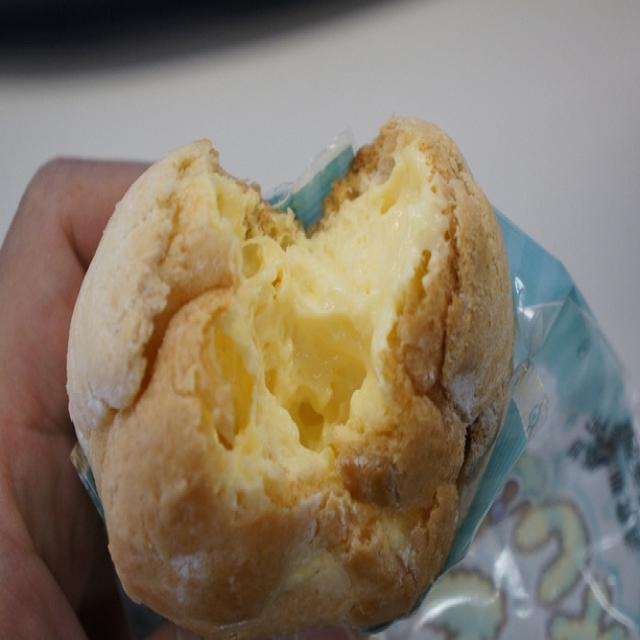炸货点心: (62, 97, 523, 629)
蛋糕甜品: (62, 97, 523, 629)
